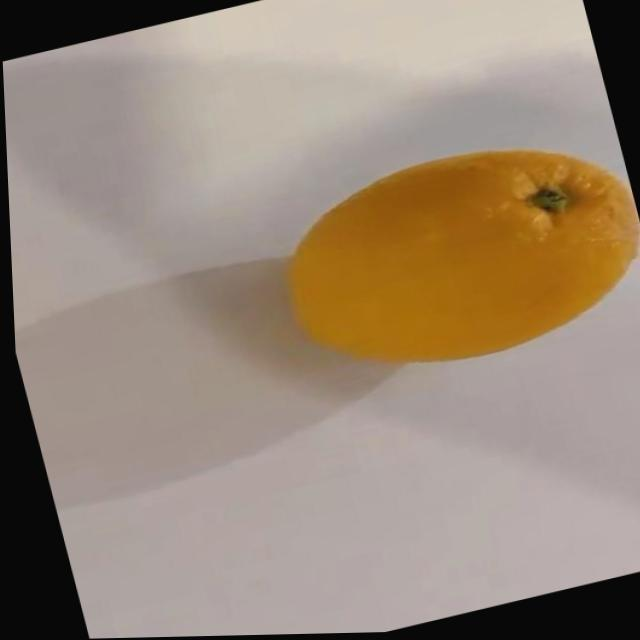Orange: (252, 119, 640, 400)
